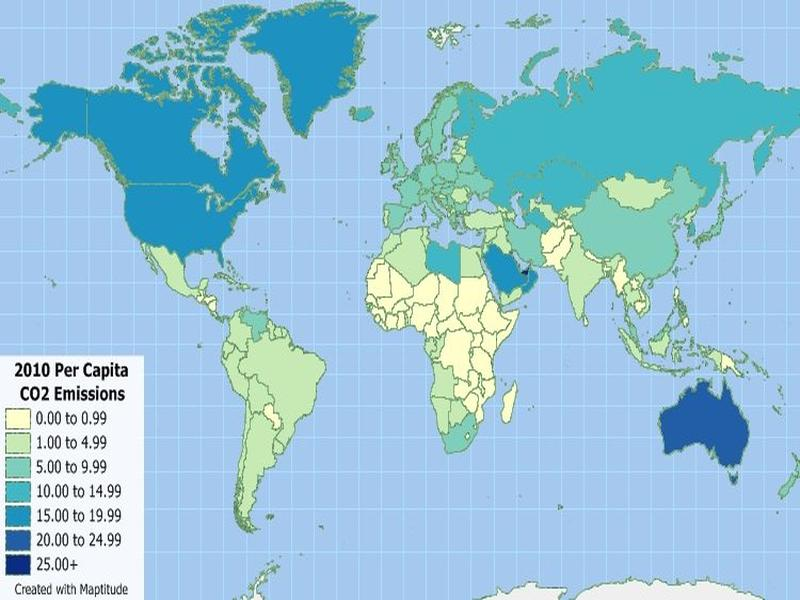legend: (1, 354, 145, 600)
